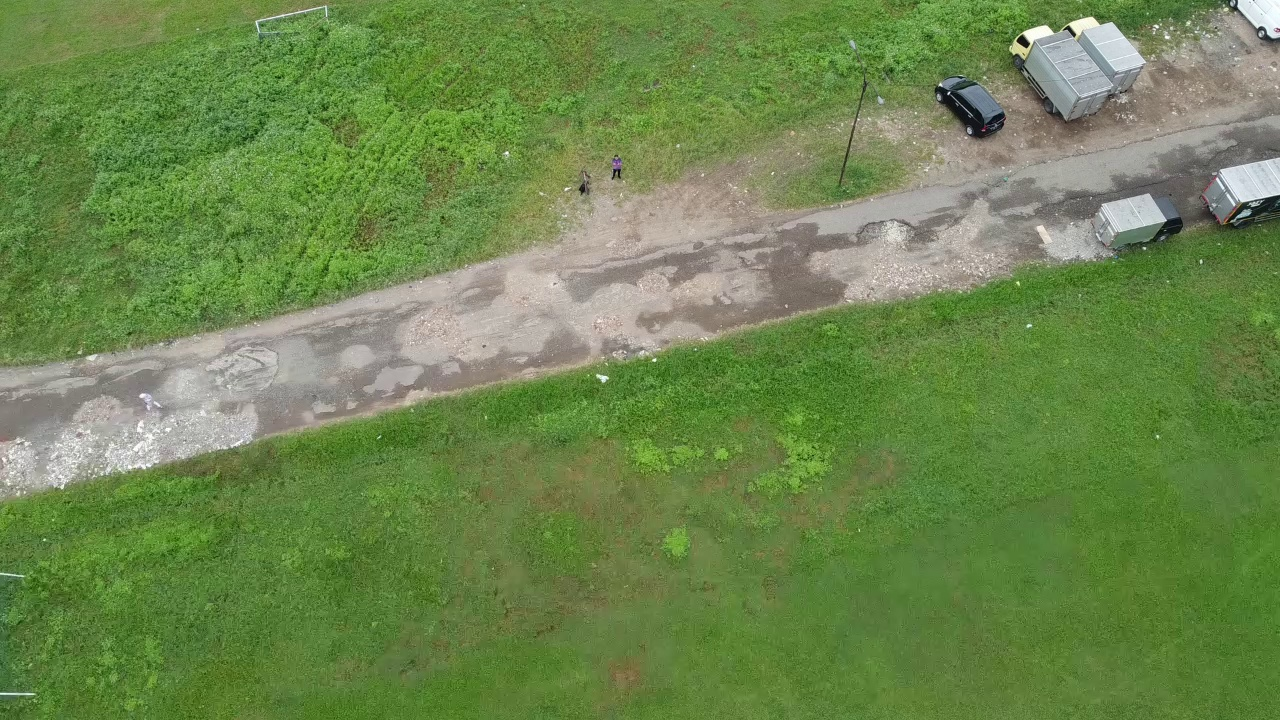mobil: (929, 69, 1011, 139)
